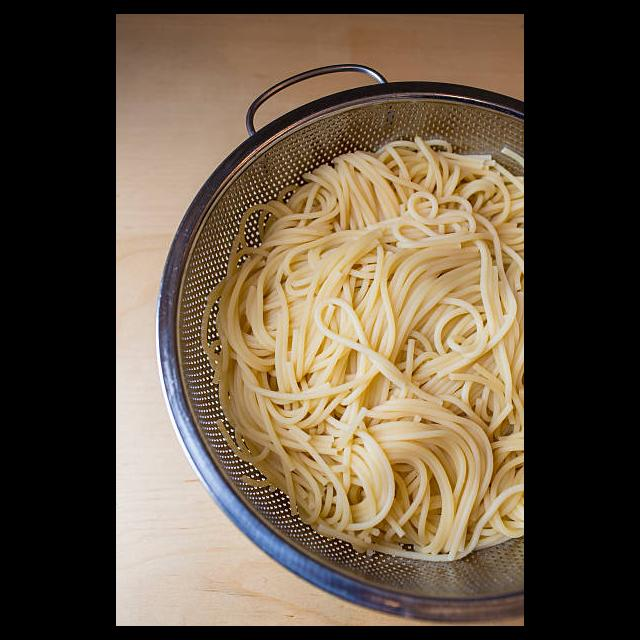noodles: (199, 139, 524, 565)
